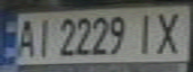2: (54, 14, 78, 58), (90, 12, 112, 57), (72, 14, 93, 57)
9: (106, 11, 133, 56)
A: (12, 16, 39, 58)
I: (130, 9, 160, 56), (30, 15, 57, 58)
X: (148, 7, 190, 55)
